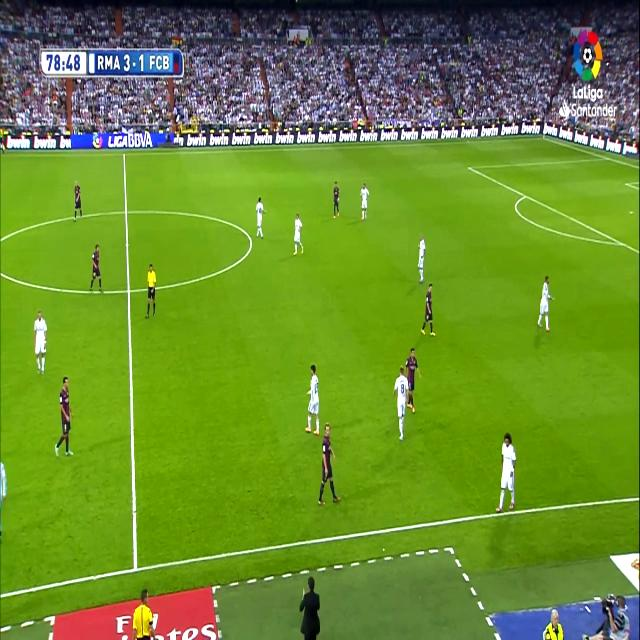halfcircle_bottom: (124, 278, 134, 302)
halfcircle_top: (122, 203, 130, 220)
midline_top_intersection: (122, 149, 127, 159)
top_arc_area_intersection: (521, 188, 528, 201)
